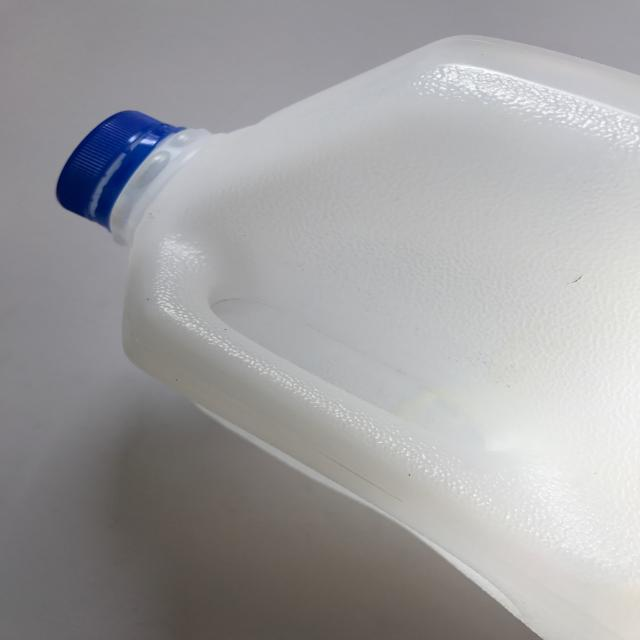plastic: (53, 28, 639, 640)
